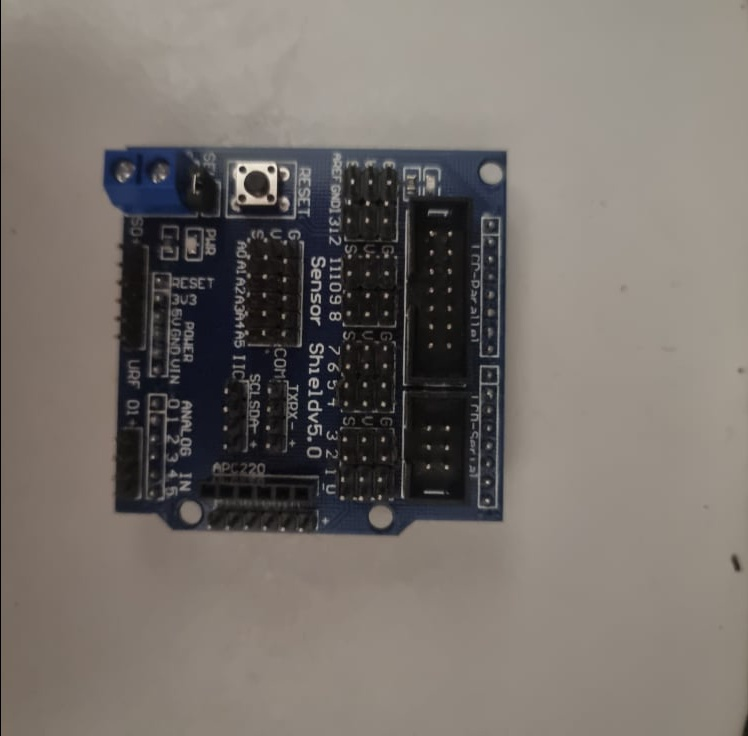5V EXPANSION: (99, 146, 511, 537)
